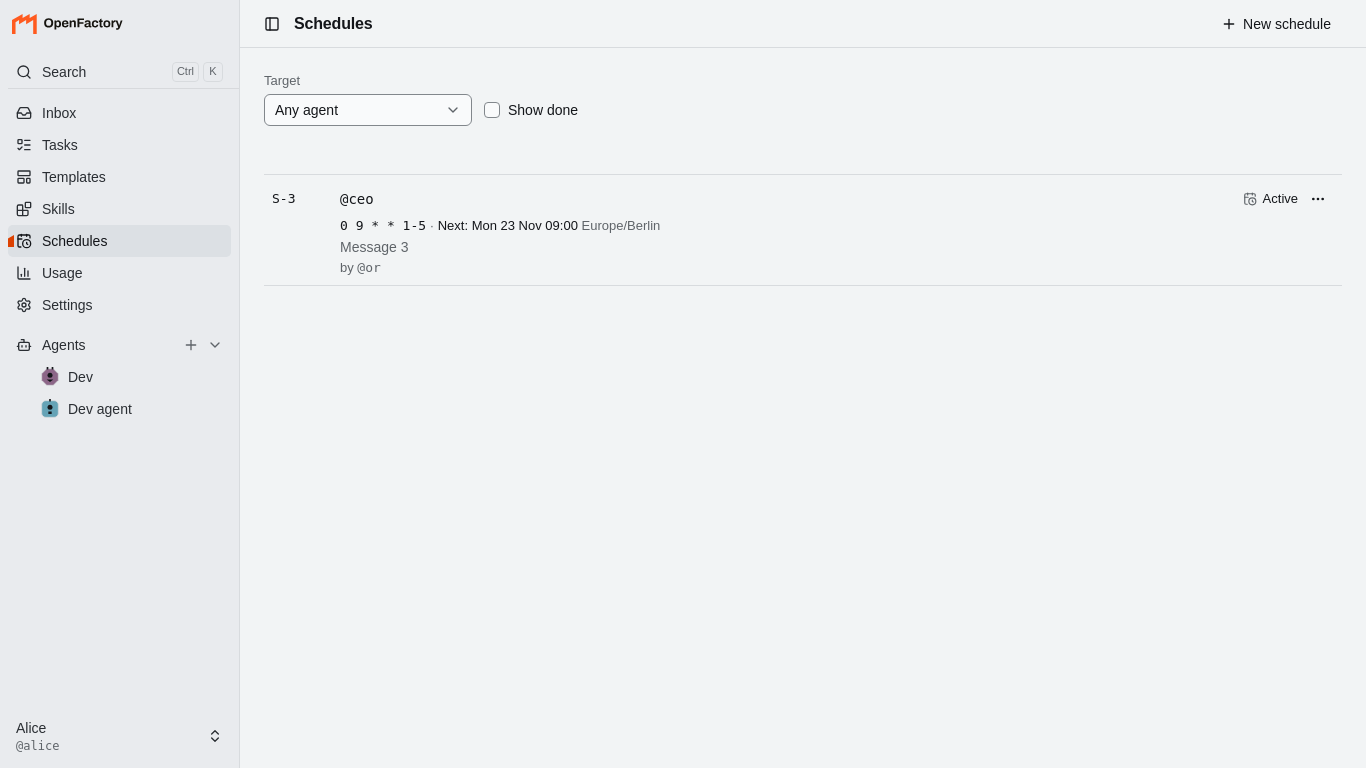
Test: a failed Pause says so with Retry; a restore refused because the target ended says why
Step 1. Click the button named "Actions for S-3" → (1318, 199), box [1302,183,1334,215]
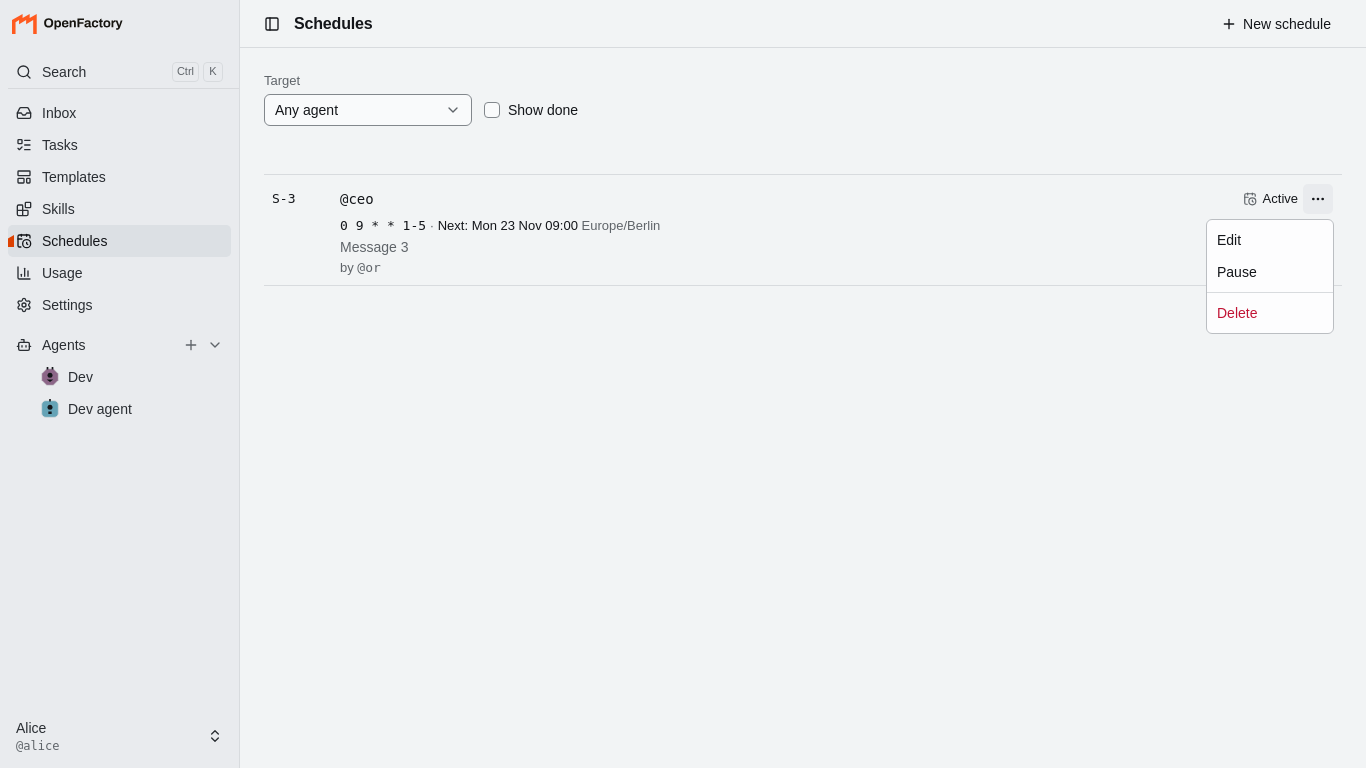
Step 2. Click the menu item "Pause" → (1237, 272), box [1217,264,1257,280]
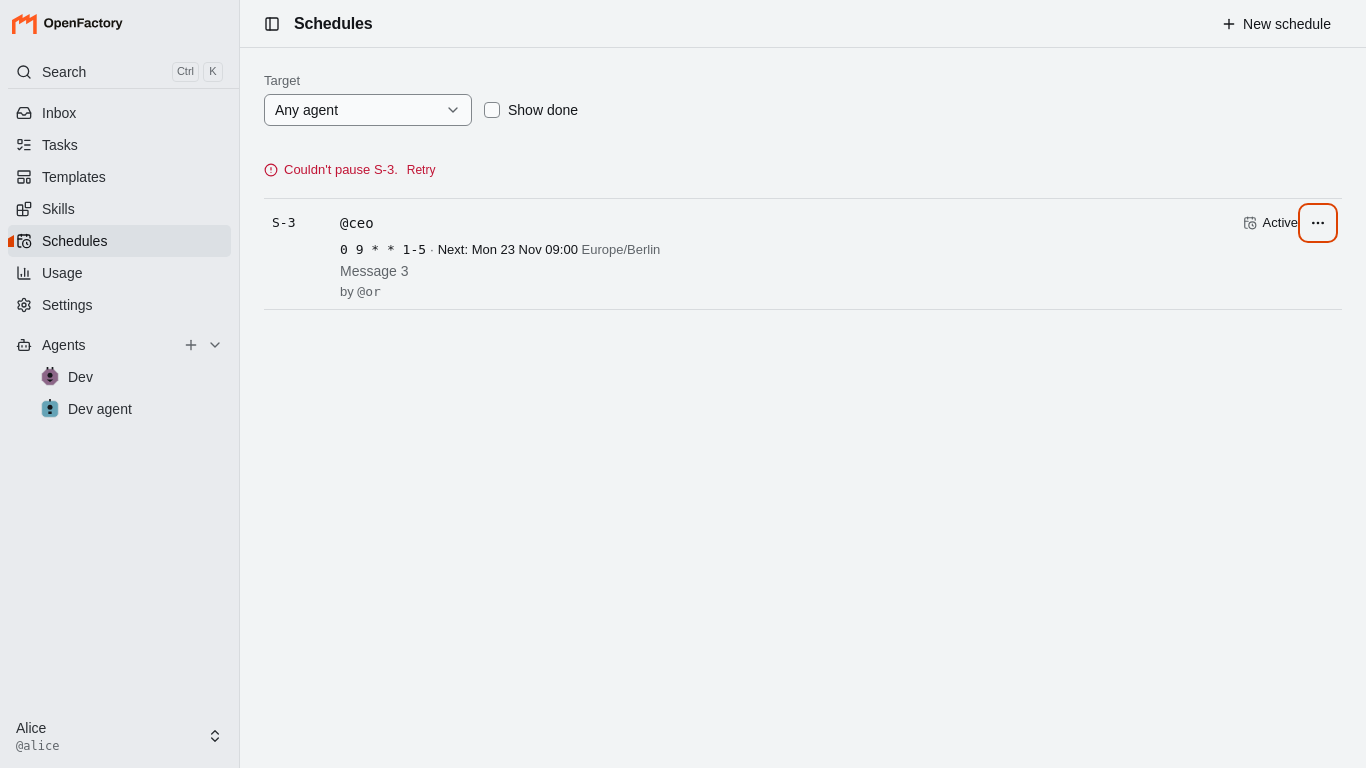
Expected: the text "Couldn't pause S-3." is shown, [284,162,398,177]
Expected: the button "Retry" is shown, [398,158,444,182]
Step 3. Click the button named "Actions for S-3" → (1318, 223), box [1302,207,1334,239]
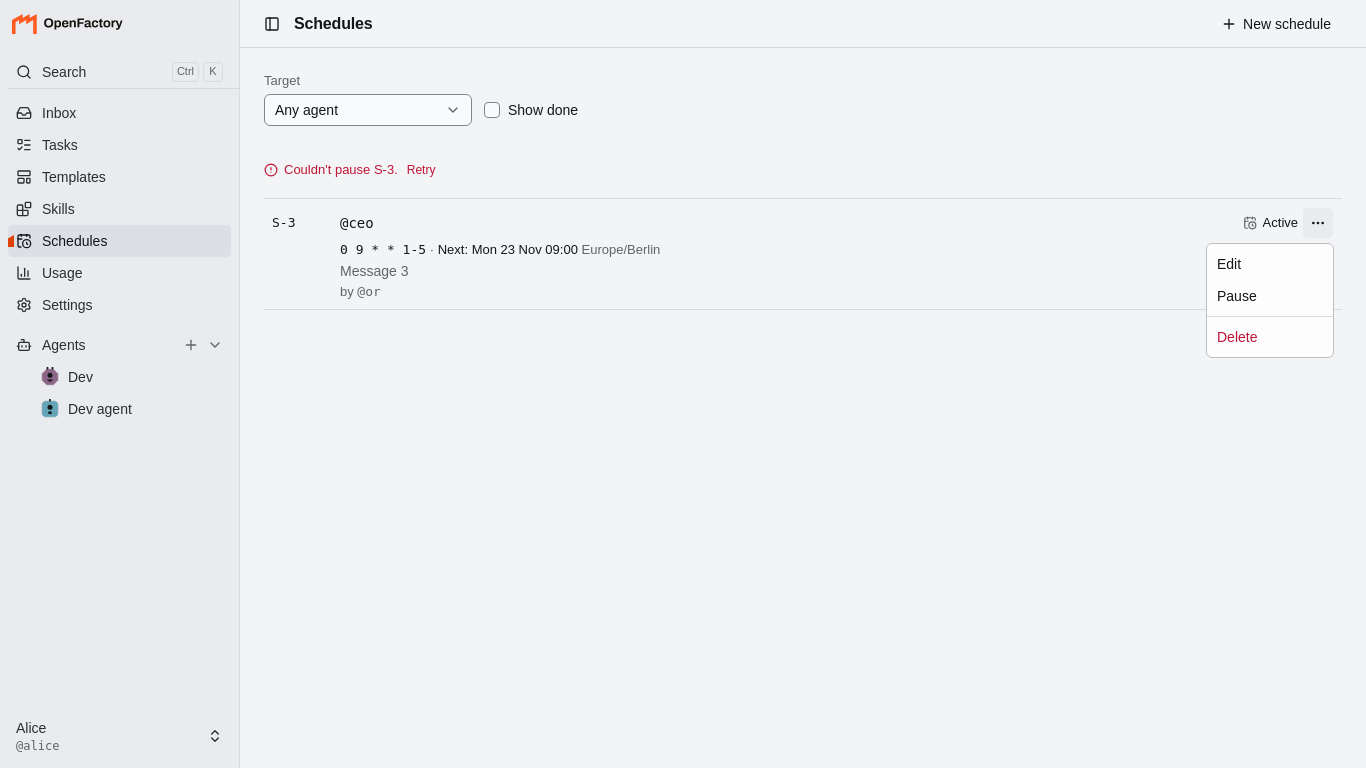
Step 4. Click the menu item "Delete" → (1237, 337), box [1217,329,1258,345]
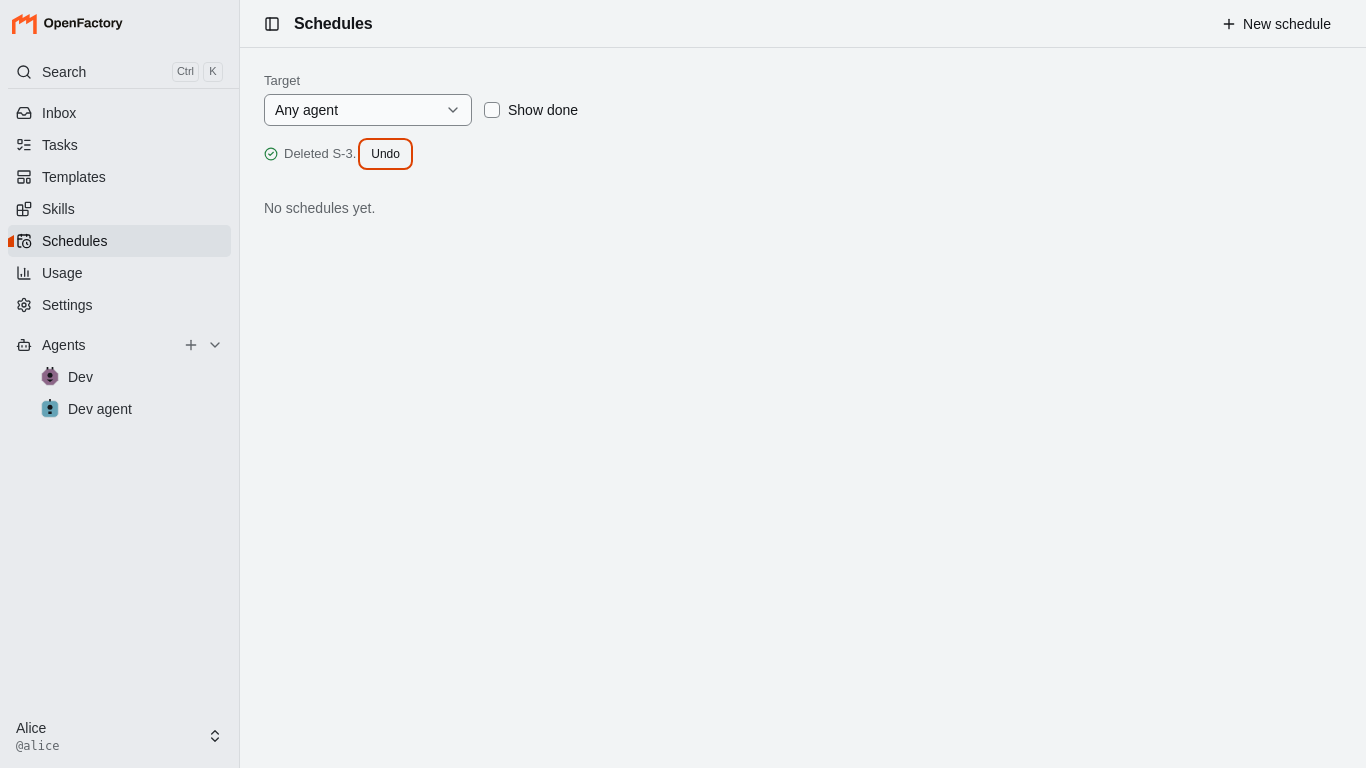
Step 5. Click the button "Undo" → (386, 154), box [362,142,409,166]
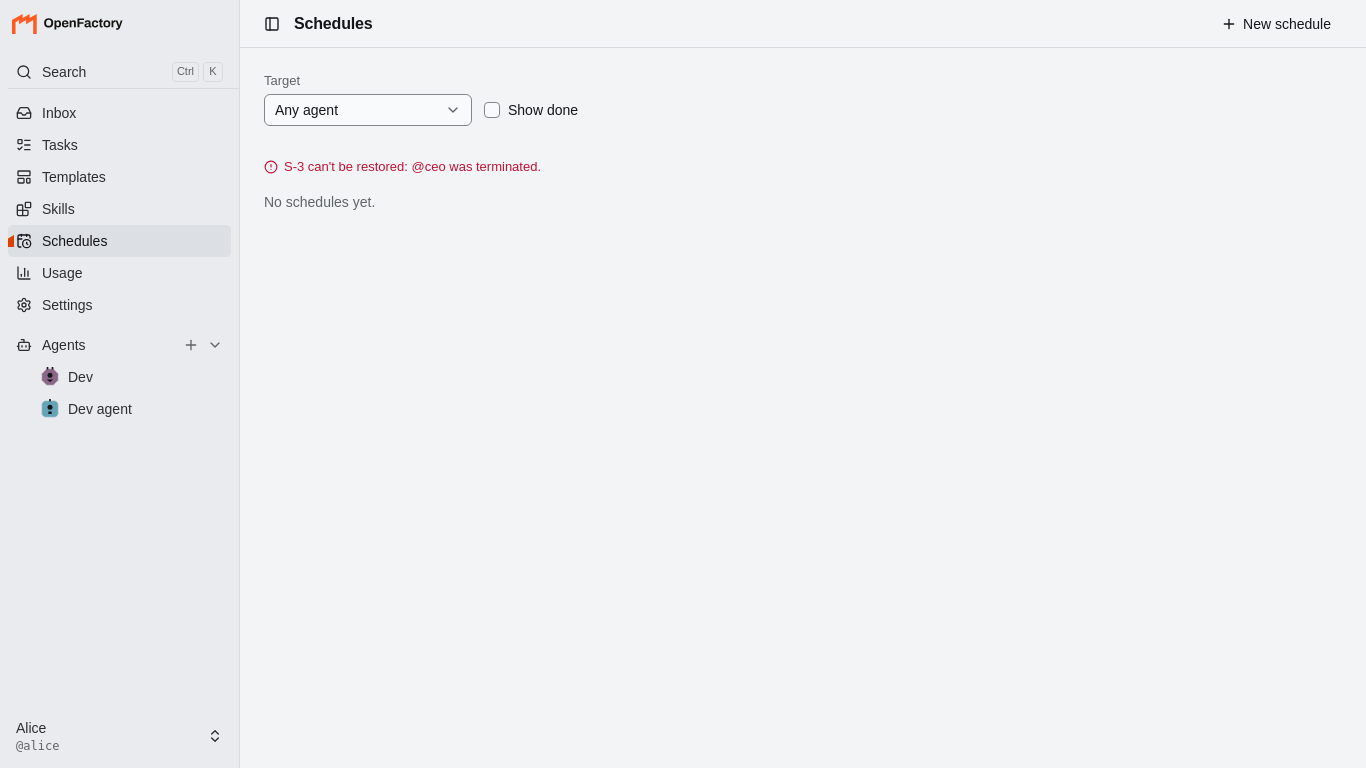
Expected: the text "S-3 can't be restored: @ceo was terminated." is shown, [284,158,541,176]
